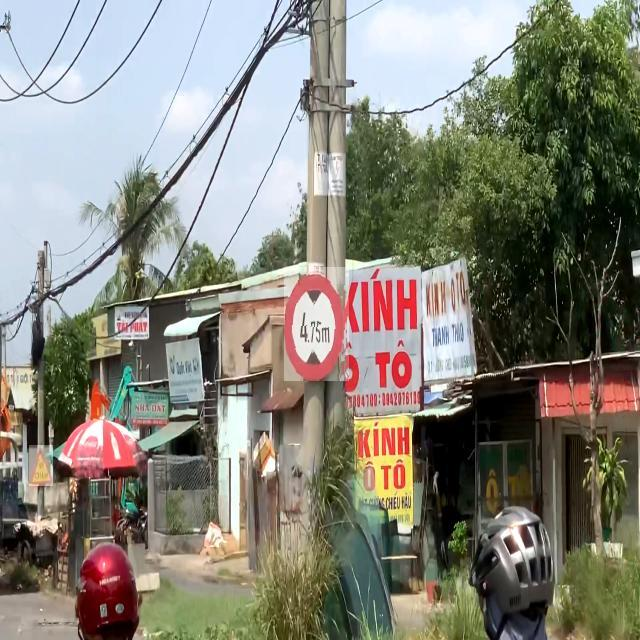P-117: (284, 267, 349, 381)
W-245a: (29, 445, 53, 486)
